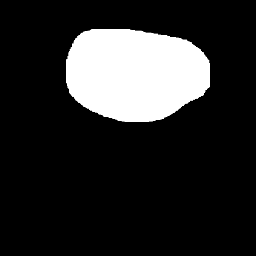mass: (70, 23, 209, 115)
